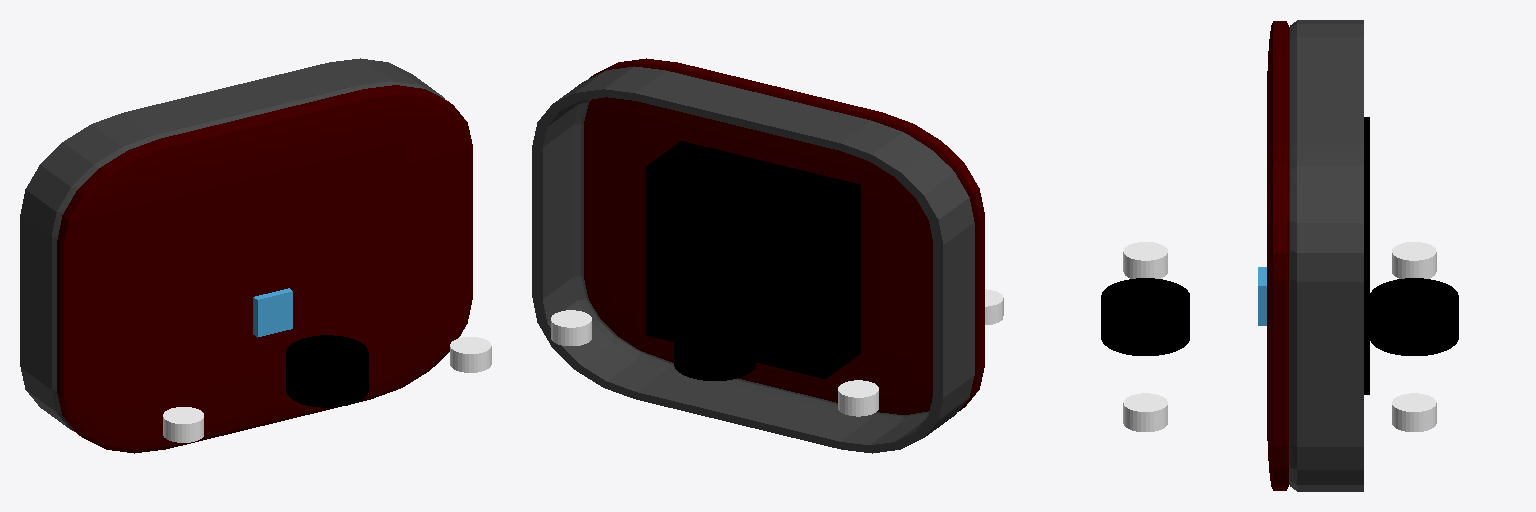
The robot description file, URDF, robot "low_amr":
<?xml version="1.0"?>
<robot name="low_amr">

  <link name="base_footprint"/>

  <joint name="base_footprint_joint" type="fixed">
    <parent link="base_footprint"/>
    <child link="base_link"/>
    <origin xyz="0 0 0" rpy="0 0 0"/>
  </joint>

  <link name="base_link">
    <visual>
      <geometry> <box size="0.1 0.1 0.1"/> </geometry>
    </visual>
    <collision>
      <geometry> <box size="0.1 0.1 0.1"/> </geometry>
    </collision>
    <inertial>
      <mass value="50.0"/>
      <inertia ixx="5.0" ixy="0.0" ixz="0.0" iyy="5.0" iyz="0.0" izz="5.0"/>
    </inertial>
  </link>

  <joint name="left_wheel_joint" type="continuous">
    <parent link="base_link"/>
    <child link="left_wheel_link"/>
    <origin xyz="0 -0.3 -0.051" rpy="0 0 0"/>
    <axis xyz="0 1 0"/>
  </joint>
  <link name="left_wheel_link">
    <visual>   <geometry> <mesh filename="wheel.dae"/> </geometry> </visual>
    <collision><geometry> <mesh filename="wheel.dae"/> </geometry> </collision>
  </link>

  <joint name="right_wheel_joint" type="continuous">
    <parent link="base_link"/>
    <child link="right_wheel_link"/>
    <origin xyz="0 0.3 -0.051" rpy="0 0 0"/>
    <axis xyz="0 1 0"/>
  </joint>
  <link name="right_wheel_link">
    <visual>   <geometry> <mesh filename="wheel.dae"/> </geometry> </visual>
    <collision><geometry> <mesh filename="wheel.dae"/> </geometry> </collision>
  </link>

  <joint name="cast_wheel_joint1" type="fixed">
    <parent link="base_link"/> <child link="cast_wheel_link1"/>
    <origin xyz="0.4 -0.3 -0.1" rpy="0 0 0"/>
  </joint>
  <link name="cast_wheel_link1">
    <visual>   <geometry> <mesh filename="cast_wheel.dae"/> </geometry> </visual>
    <collision><geometry> <mesh filename="cast_wheel.dae"/> </geometry> </collision>
  </link>

  <joint name="cast_wheel_joint2" type="fixed">
    <parent link="base_link"/> <child link="cast_wheel_link2"/>
    <origin xyz="-0.4 0.3 -0.1" rpy="0 0 0"/>
  </joint>
  <link name="cast_wheel_link2">
    <visual>   <geometry> <mesh filename="cast_wheel.dae"/> </geometry> </visual>
    <collision><geometry> <mesh filename="cast_wheel.dae"/> </geometry> </collision>
  </link>

  <joint name="cast_wheel_joint3" type="fixed">
    <parent link="base_link"/> <child link="cast_wheel_link3"/>
    <origin xyz="0.4 0.3 -0.1" rpy="0 0 0"/>
  </joint>
  <link name="cast_wheel_link3">
    <visual>   <geometry> <mesh filename="cast_wheel.dae"/> </geometry> </visual>
    <collision><geometry> <mesh filename="cast_wheel.dae"/> </geometry> </collision>
  </link>

  <joint name="cast_wheel_joint4" type="fixed">
    <parent link="base_link"/> <child link="cast_wheel_link4"/>
    <origin xyz="-0.4 -0.3 -0.1" rpy="0 0 0"/>
  </joint>
  <link name="cast_wheel_link4">
    <visual>   <geometry> <mesh filename="cast_wheel.dae"/> </geometry> </visual>
    <collision><geometry> <mesh filename="cast_wheel.dae"/> </geometry> </collision>
  </link>

  <joint name="mast_joint" type="fixed">
    <parent link="base_link"/>
    <child link="mast_link"/>
    <origin xyz="0 0 0.1" rpy="0 0 0"/>
  </joint>
  <link name="mast_link">
    <visual> <geometry> <mesh filename="mast_up.dae"/> </geometry> </visual>
    <visual> <geometry> <mesh filename="mast_forward.dae"/> </geometry> </visual>
    <visual> <geometry> <mesh filename="mast_back.dae"/> </geometry> </visual>
    <visual> <geometry> <mesh filename="mast_right.dae"/> </geometry> </visual>
    <visual> <geometry> <mesh filename="mast_left.dae"/> </geometry> </visual>

    <collision> <geometry> <mesh filename="mast_up.dae"/> </geometry> </collision>
    <collision> <geometry> <mesh filename="mast_forward.dae"/> </geometry> </collision>
    <collision> <geometry> <mesh filename="mast_back.dae"/> </geometry> </collision>
    <collision> <geometry> <mesh filename="mast_right.dae"/> </geometry> </collision>
    <collision> <geometry> <mesh filename="mast_left.dae"/> </geometry> </collision>
    
    <inertial>
      <mass value="40.0"/>
      <origin xyz="0 0 0" rpy="0 0 0"/>
      <inertia ixx="0.2" ixy="0.0" ixz="0.0" iyy="0.2" iyz="0.0" izz="0.05"/>
    </inertial>
  </link>

  <joint name="lift_z_joint" type="prismatic">
    <parent link="mast_link"/>
    <child link="lift_shuttle_link"/>
    <origin xyz="0 0 0" rpy="0 0 0"/>
    <axis xyz="0 0 1"/>
    <limit lower="0.0" upper="0.2" effort="50000" velocity="0.1"/>
  </joint>
  
  <link name="lift_shuttle_link">
    <visual> <geometry> <mesh filename="lift_up.dae"/> </geometry> </visual>
    <visual> <geometry> <mesh filename="lift_down.dae"/> </geometry> </visual>

    <collision> <geometry> <mesh filename="lift_up.dae"/> </geometry> </collision>
    <collision> <geometry> <mesh filename="lift_down.dae"/> </geometry> </collision>
    
    <inertial>
      <mass value="25.0"/>
      <origin xyz="0 0 0" rpy="0 0 0"/>
      <inertia ixx="0.1" ixy="0.0" ixz="0.0" iyy="0.1" iyz="0.0" izz="0.1"/>
    </inertial>
  </link>

</robot>

--- Facts derived from the render (not from the file) ---
Views: 3 orthographic renders of the robot side by side, from view 1: azimuth 30°, elevation 25°; view 2: azimuth 150°, elevation 25°; view 3: azimuth 270°, elevation 25°.
Model low_amr with 10 links and 9 joints (2 continuous, 1 prismatic, 6 fixed), rooted at base_footprint, posed every joint at zero.
Links seen in each view (by area): view 1: lift_shuttle_link, mast_link, left_wheel_link, base_link, cast_wheel_link1, cast_wheel_link4; view 2: lift_shuttle_link, mast_link, right_wheel_link, cast_wheel_link2, cast_wheel_link3, cast_wheel_link4; view 3: mast_link, lift_shuttle_link, left_wheel_link, right_wheel_link, cast_wheel_link1, cast_wheel_link3, cast_wheel_link2, cast_wheel_link4, base_link.
Boxes of the visible links, left/top/right/bottom form: lift_shuttle_link: left=57, top=85, right=472, bottom=453; mast_link: left=20, top=58, right=444, bottom=431; left_wheel_link: left=286, top=335, right=368, bottom=407; base_link: left=253, top=288, right=292, bottom=337; cast_wheel_link1: left=450, top=337, right=491, bottom=372; cast_wheel_link4: left=163, top=407, right=203, bottom=442; lift_shuttle_link: left=584, top=58, right=984, bottom=414; mast_link: left=532, top=66, right=974, bottom=453; right_wheel_link: left=674, top=309, right=755, bottom=380; cast_wheel_link2: left=838, top=380, right=878, bottom=416; cast_wheel_link3: left=551, top=310, right=591, bottom=345; cast_wheel_link4: left=985, top=289, right=1003, bottom=324; mast_link: left=1289, top=20, right=1363, bottom=491; lift_shuttle_link: left=1267, top=21, right=1369, bottom=490; left_wheel_link: left=1101, top=278, right=1189, bottom=355; right_wheel_link: left=1370, top=278, right=1458, bottom=355; cast_wheel_link1: left=1123, top=393, right=1167, bottom=431; cast_wheel_link3: left=1392, top=393, right=1436, bottom=431; cast_wheel_link2: left=1392, top=242, right=1436, bottom=278; cast_wheel_link4: left=1123, top=242, right=1167, bottom=278; base_link: left=1258, top=267, right=1266, bottom=325.
Size in the robot's own frame: 1.15 by 0.8 by 0.815 metres.
Meshes: 9 distinct files referenced, 13 mesh visuals loaded (9 Collada DAE).
